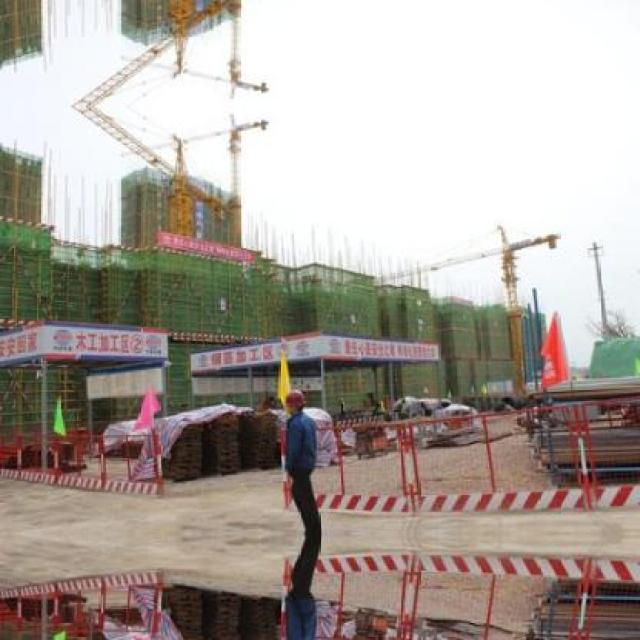helmet: (285, 388, 306, 416)
